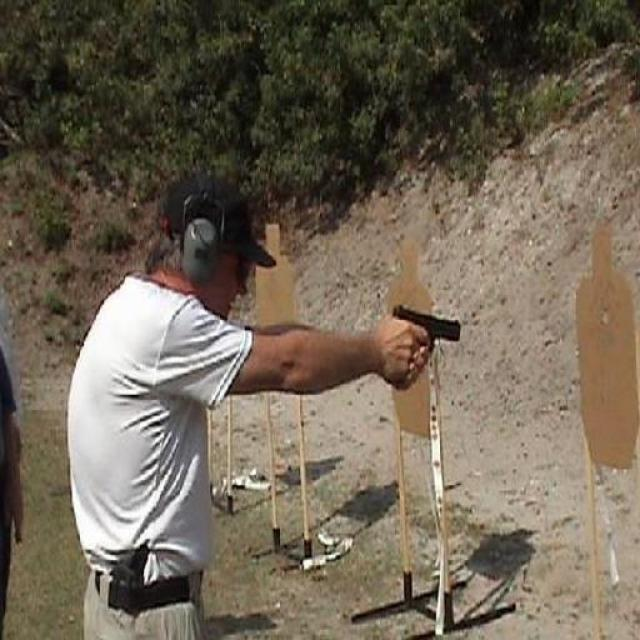pistol: (386, 303, 461, 381)
